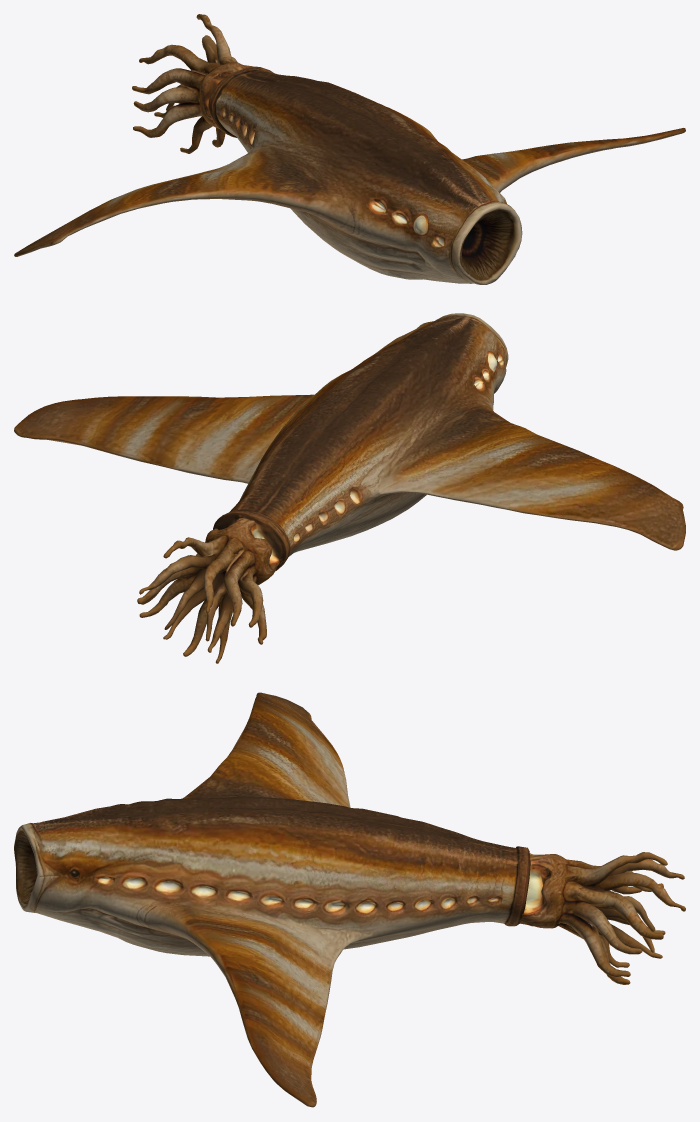
File: alien-jupiter-hunter.glb
The picture shows the model from 3 angles, top to bottom: view 1: azimuth 30°, elevation 25°; view 2: azimuth 150°, elevation 25°; view 3: azimuth 270°, elevation 25°; orthographic projection. The views are drawn at different scales.
Parts seen in each view (by area): view 1: tripo_node_61d0682a-4324-4bf9-81d8-e76355b7e57e; view 2: tripo_node_61d0682a-4324-4bf9-81d8-e76355b7e57e; view 3: tripo_node_61d0682a-4324-4bf9-81d8-e76355b7e57e.
Boxes of the visible parts, x1,y1,x2,y2 form: tripo_node_61d0682a-4324-4bf9-81d8-e76355b7e57e: (14,14,685,284); tripo_node_61d0682a-4324-4bf9-81d8-e76355b7e57e: (14,313,685,663); tripo_node_61d0682a-4324-4bf9-81d8-e76355b7e57e: (14,692,685,1107).
Bounding box in the file's own units: 0.9997 × 0.2272 × 0.8052.
Materials: 1 (1 with a texture image).
